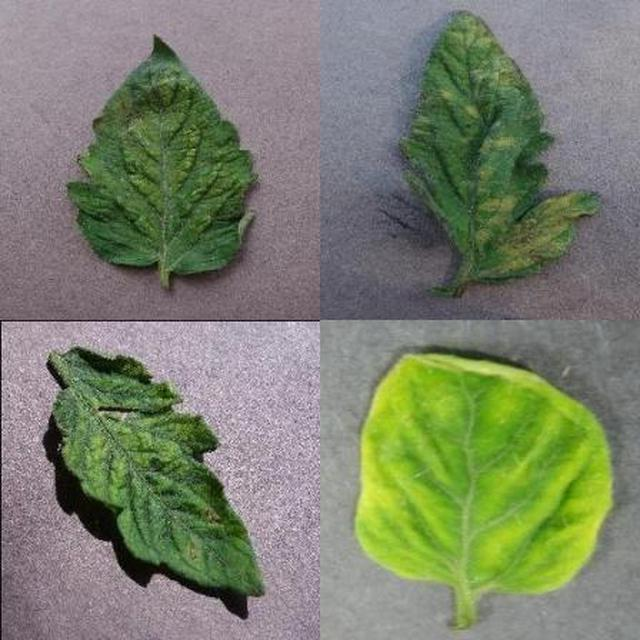Spider Mites Leaf: (227, 208, 640, 640)
